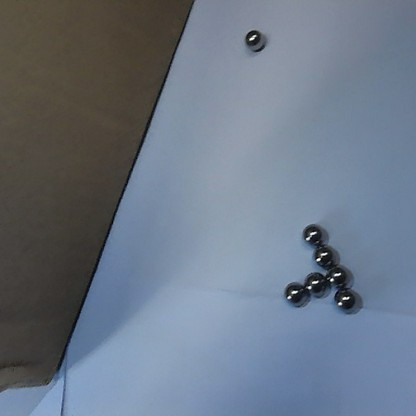ironball: (281, 279, 311, 310), (300, 270, 328, 301), (332, 286, 359, 316), (323, 264, 349, 291), (241, 27, 266, 55), (299, 221, 324, 248), (310, 243, 335, 268)
